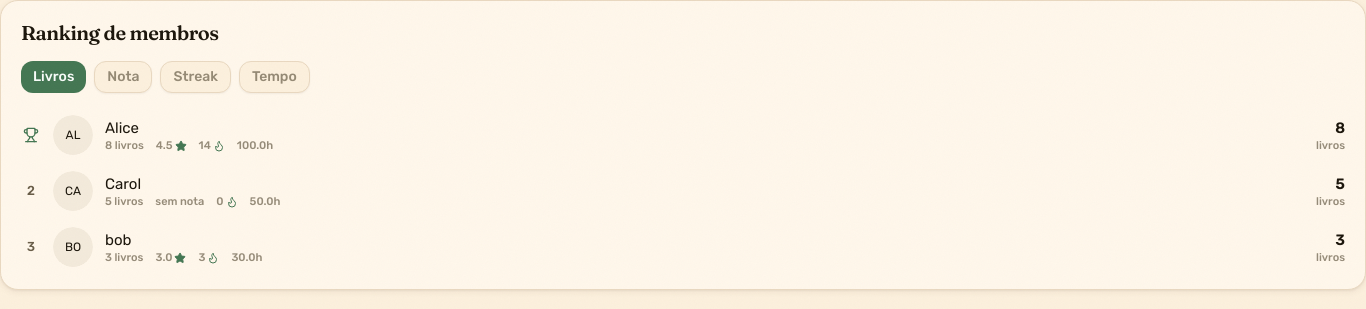
it: MemberLeaderboard › shows dash for null avg_rating when sorted by rating
Click the button "Nota" at (123, 77), box [94,61,152,93]
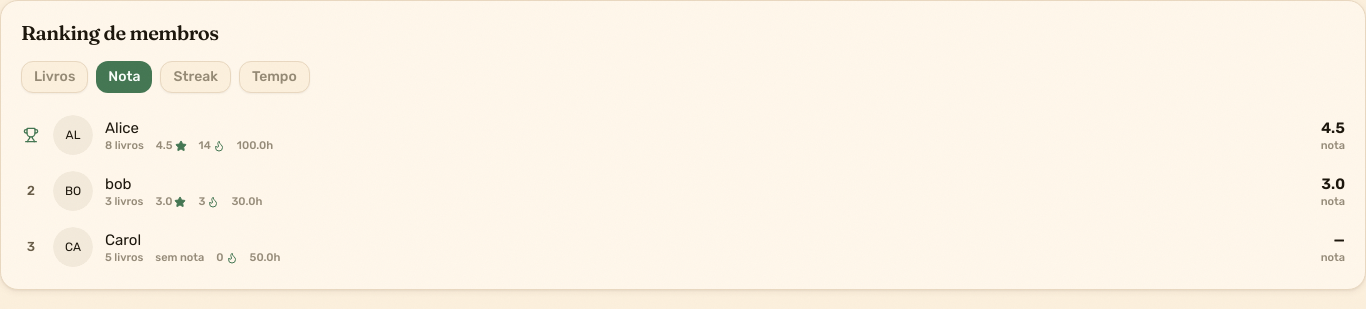
Check: the text "—" is shown, box [1334,231,1345,249]
